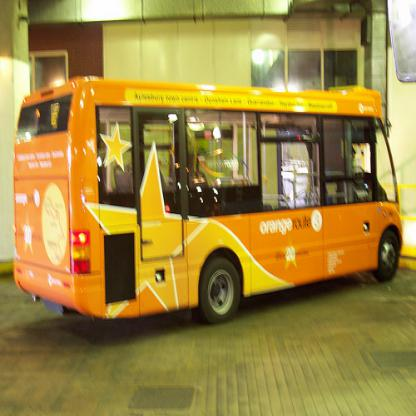bus: (14, 74, 404, 326)
